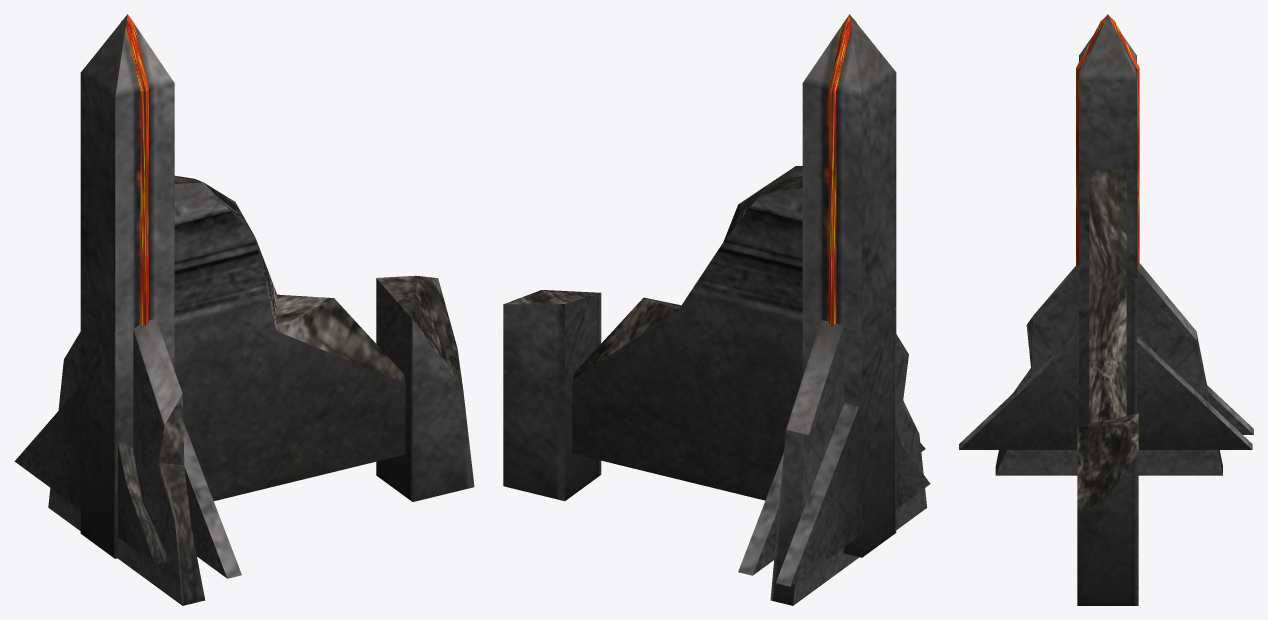
3 views of the same model, side by side, from view 1: azimuth 30°, elevation 25°; view 2: azimuth 150°, elevation 25°; view 3: azimuth 270°, elevation 25° (orthographic). The views are drawn at different scales.
Parts seen in each view (by area): view 1: wj16; view 2: wj16; view 3: wj16.
Boxes of the visible parts, x1,y1,x2,y2 form: wj16: (14,14,474,605); wj16: (503,14,930,605); wj16: (959,14,1253,605).
Bounding box in the file's own units: 1059 × 1526 × 892.
